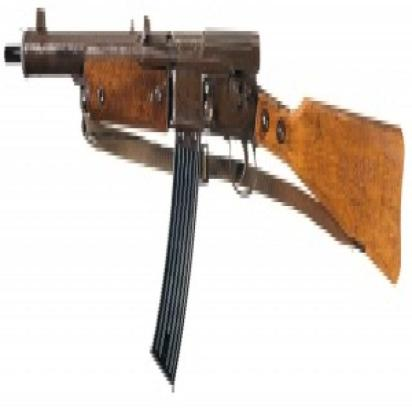Gun: (0, 19, 406, 382)
